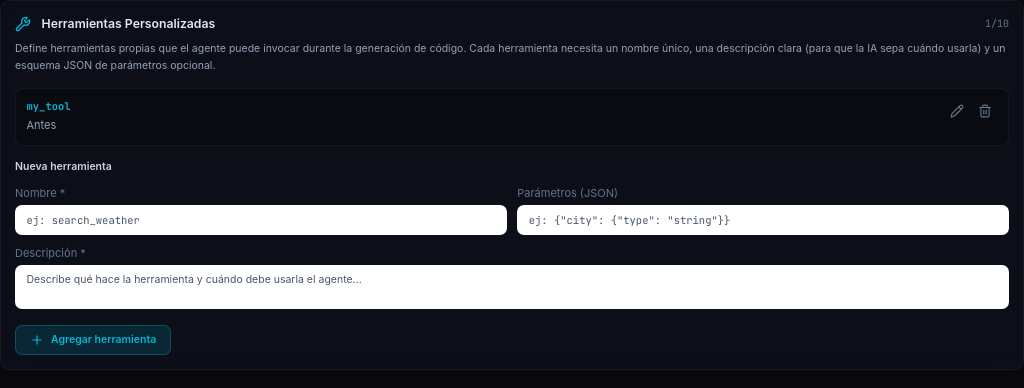
Test case: CustomToolsPanel › edita una herramienta existente
Click the button with test id "edit-tool-my_tool" at (957, 111), box [945,99,970,124]
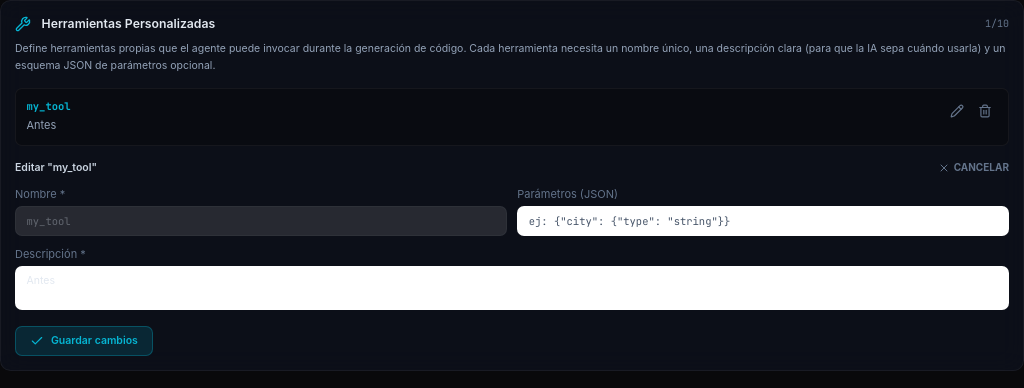
Expected: the text box with test id "tool-description-input" holds "Antes"
Replace the text in the text box with test id "tool-description-input" with "Después" at (512, 288), box [15,266,1009,310]
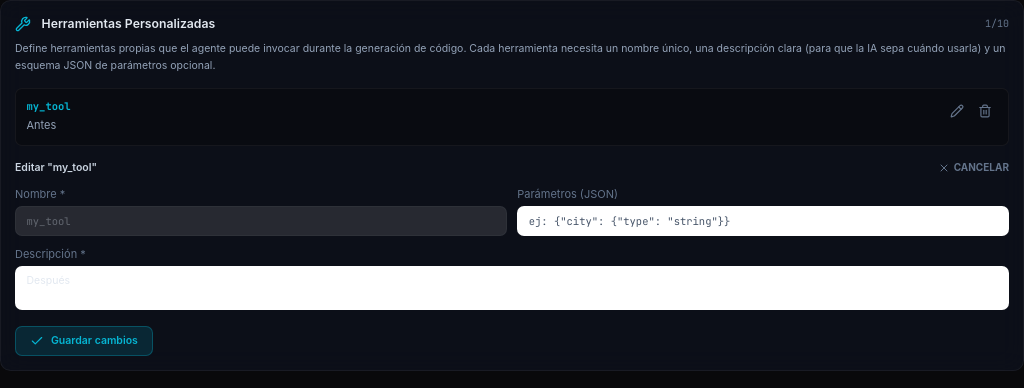
Click the button with test id "tool-submit-btn" at (84, 340), box [15,326,153,356]
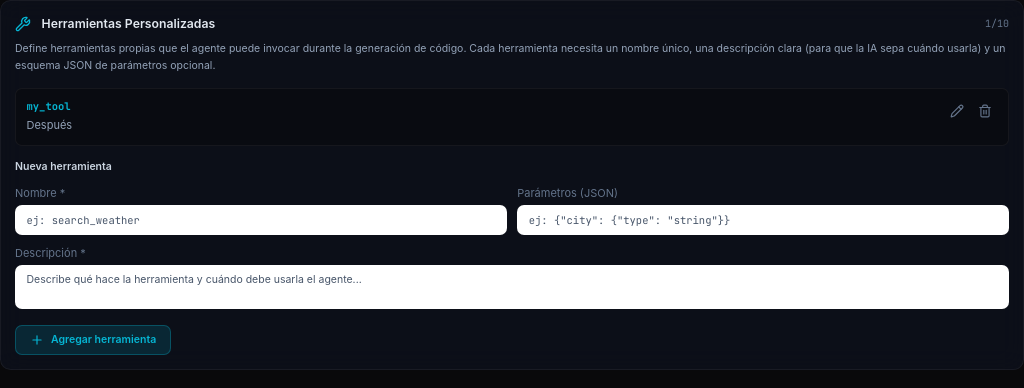
Expected: the text "Después" is shown, [26,118,72,132]
